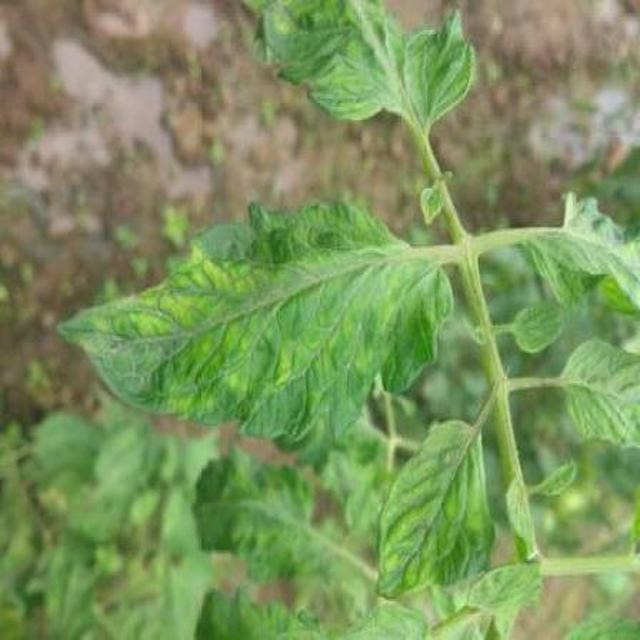Mosaic Virus Leaf: (190, 92, 620, 640)
